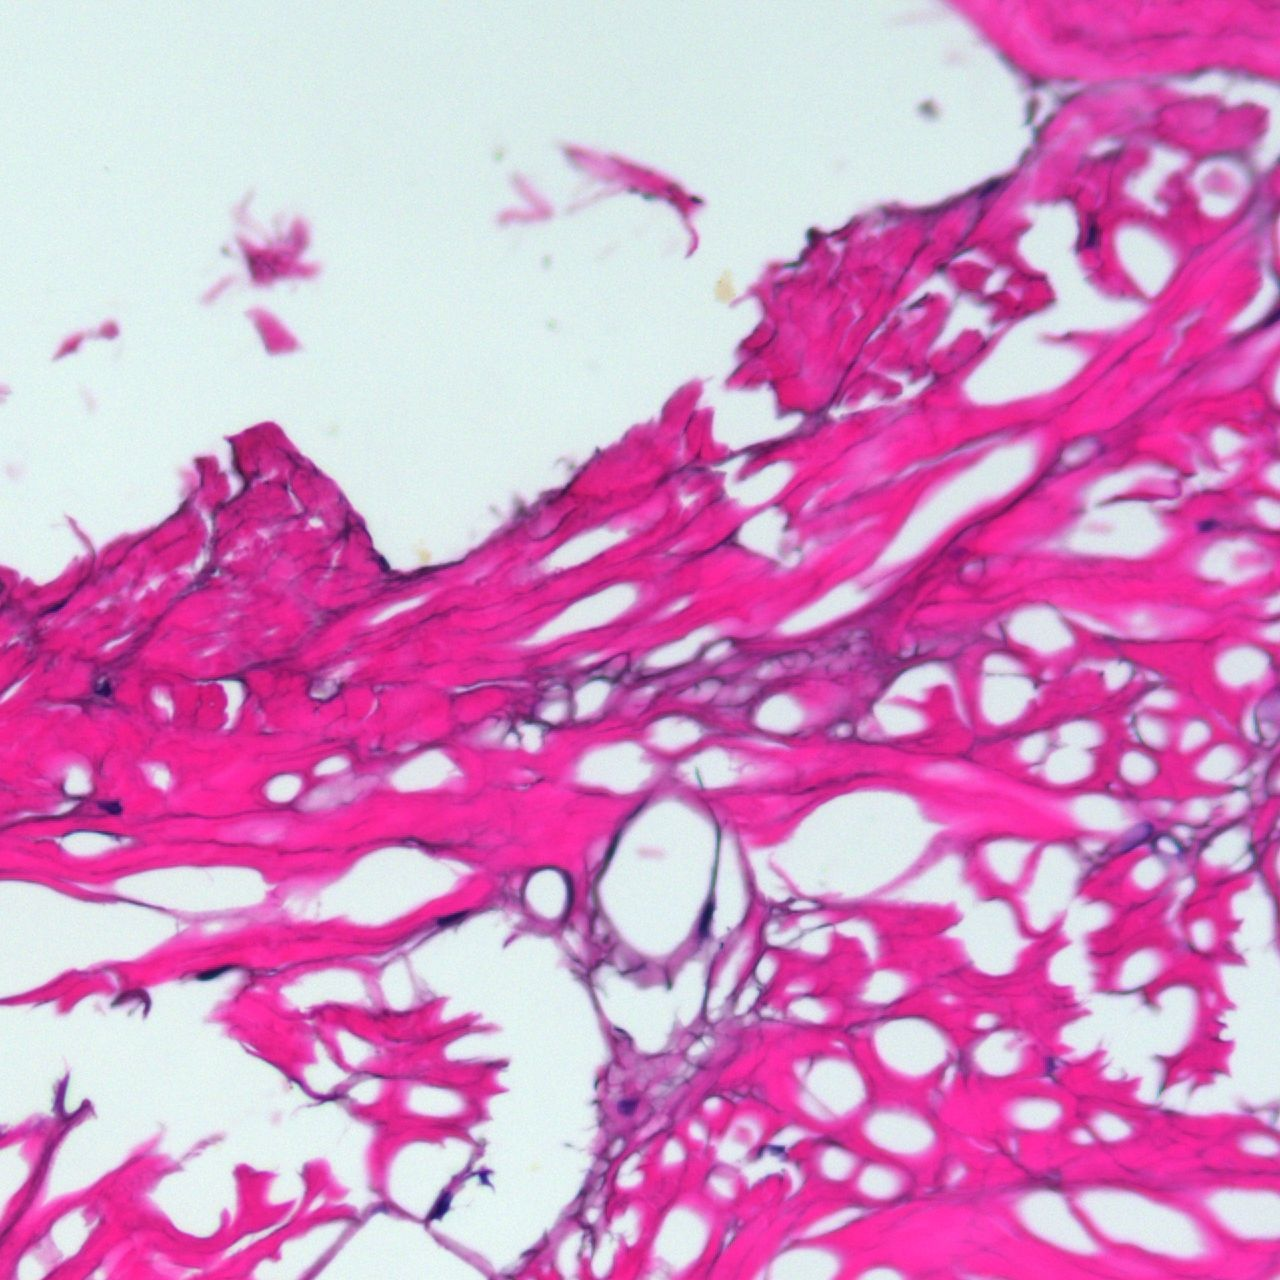dust: (715, 278, 734, 304)
nucleus-HE: (427, 1189, 458, 1223), (434, 908, 468, 930), (195, 964, 230, 983), (617, 1098, 639, 1114), (1197, 517, 1218, 532), (98, 680, 111, 697), (105, 801, 121, 813), (1087, 224, 1096, 241)
